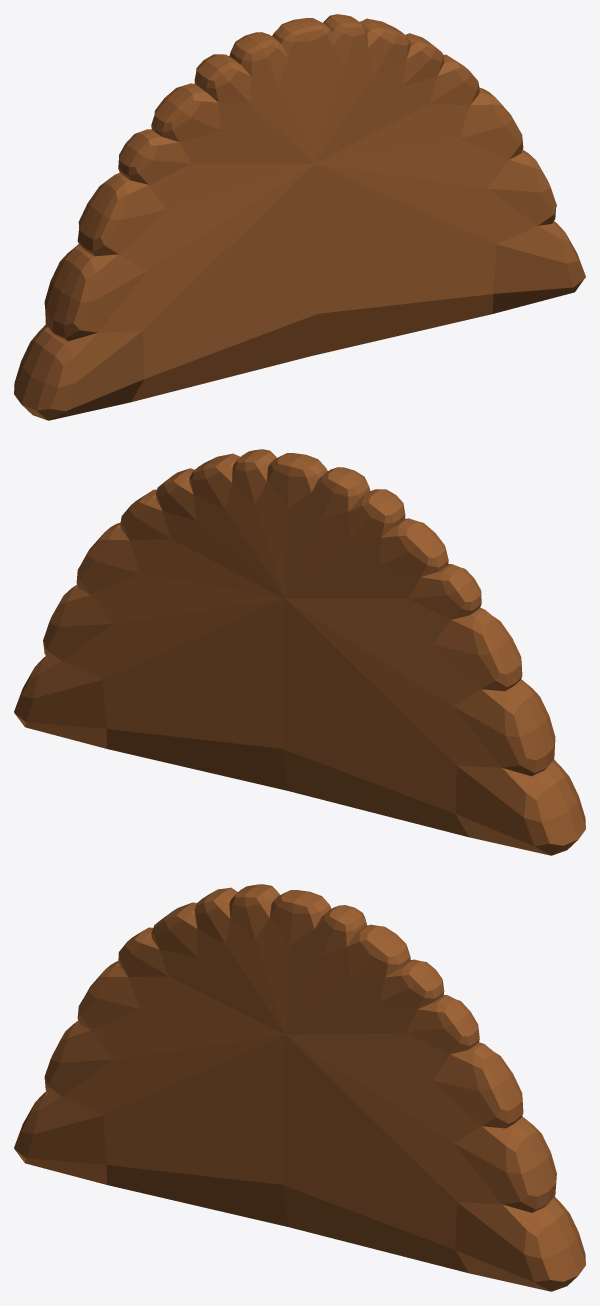
Rendered from Cheburek.fbx.
The picture shows the model from 3 angles, top to bottom: view 1: azimuth 30°, elevation 25°; view 2: azimuth 150°, elevation 25°; view 3: azimuth 330°, elevation 25°; orthographic projection.
Visible parts, largest first — view 1: Куб; view 2: Куб; view 3: Куб.
Boxes of the visible parts, x1,y1,x2,y2 form: Куб: [14, 14, 585, 420]; Куб: [14, 449, 585, 855]; Куб: [14, 884, 585, 1291].
Bounding box in the file's own units: 646 × 366 × 85.1.
